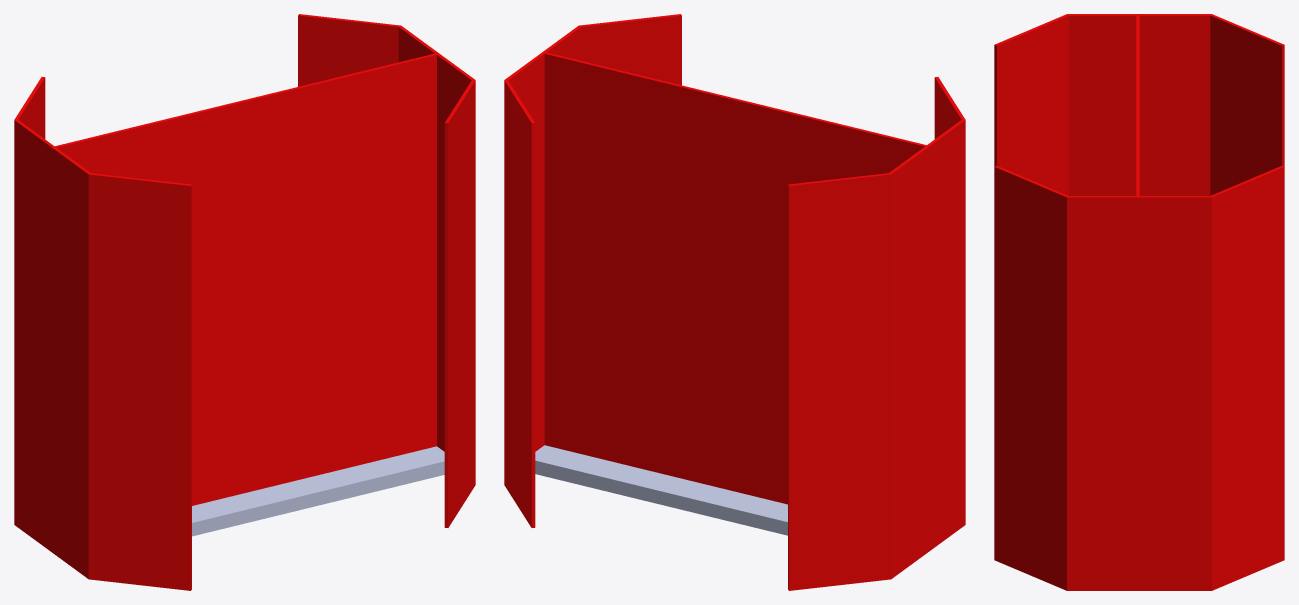
The model's file is seawolf5.obj.
The picture shows the model from 3 angles, left to right: view 1: azimuth 30°, elevation 25°; view 2: azimuth 150°, elevation 25°; view 3: azimuth 270°, elevation 25°; orthographic projection. The views are drawn at different scales.
Size of the model in its own units: 3 by 3 by 2.
